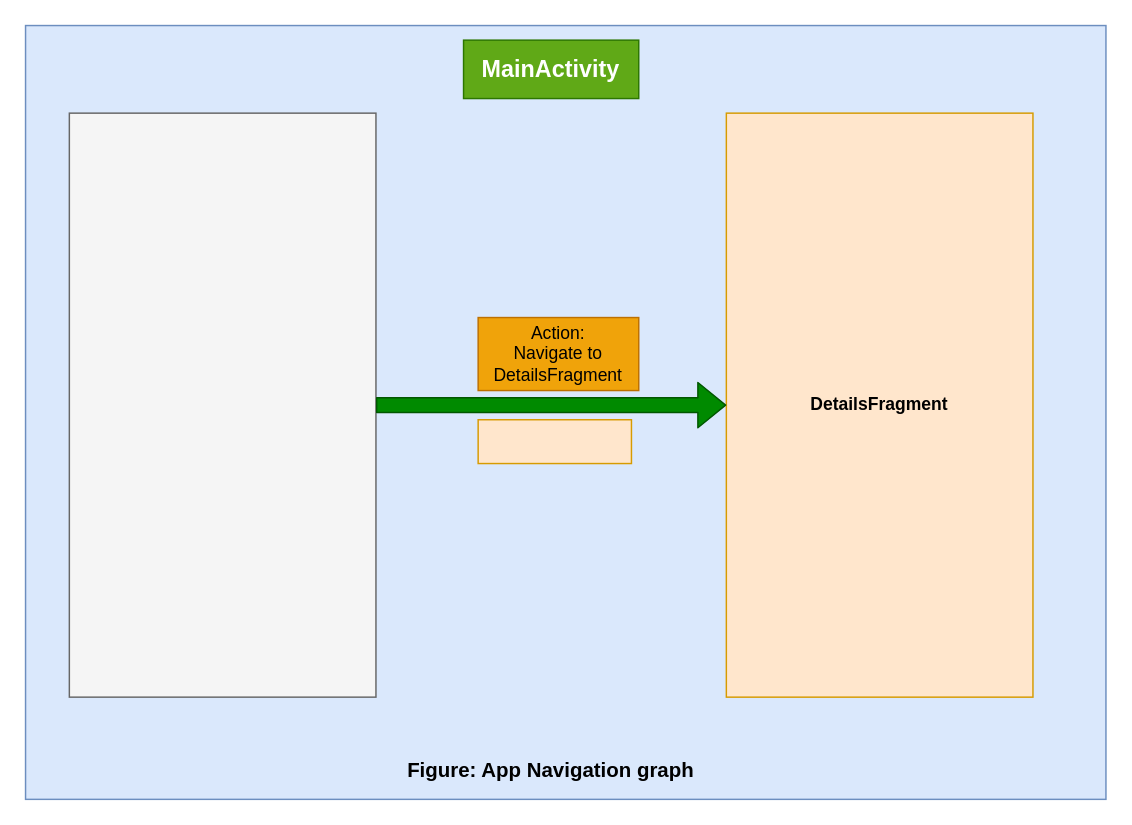
Some shapes in this 1132 by 825 pixel diagram are drawn without their labels. Each missing label, with the centre of its shape:
"Argument: Item Data class" goes at pixel 554 441.
"HomeFragment" goes at pixel 222 404.
